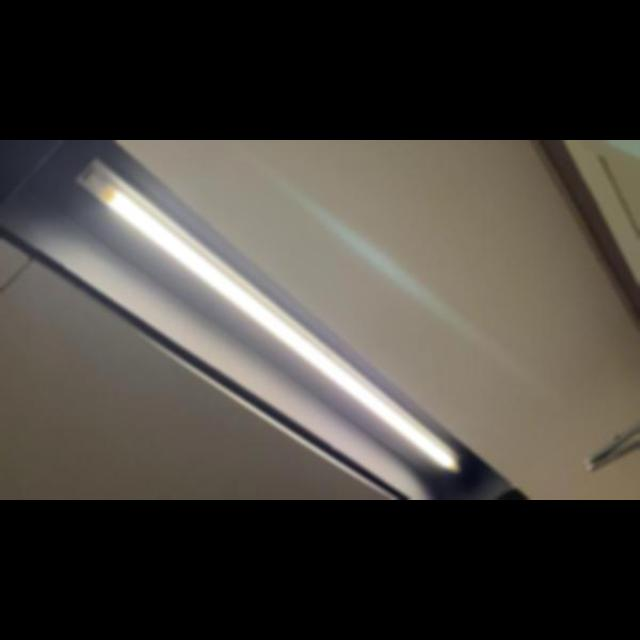Straight-Tube-Fluorescent-Lamp: (70, 153, 464, 479)
